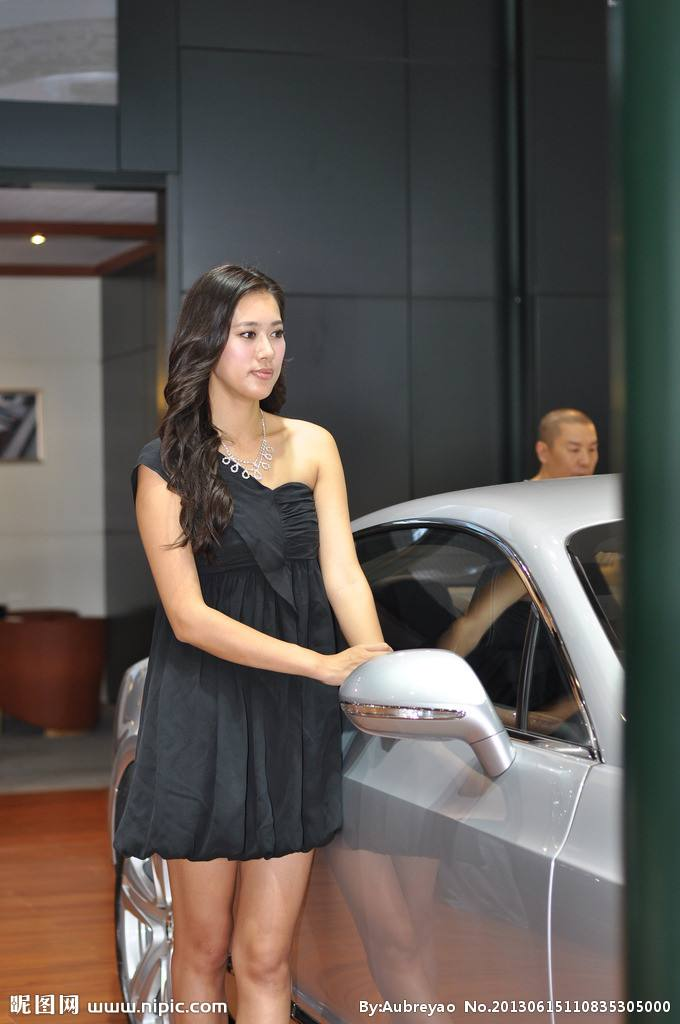person: (142, 214, 430, 963)
